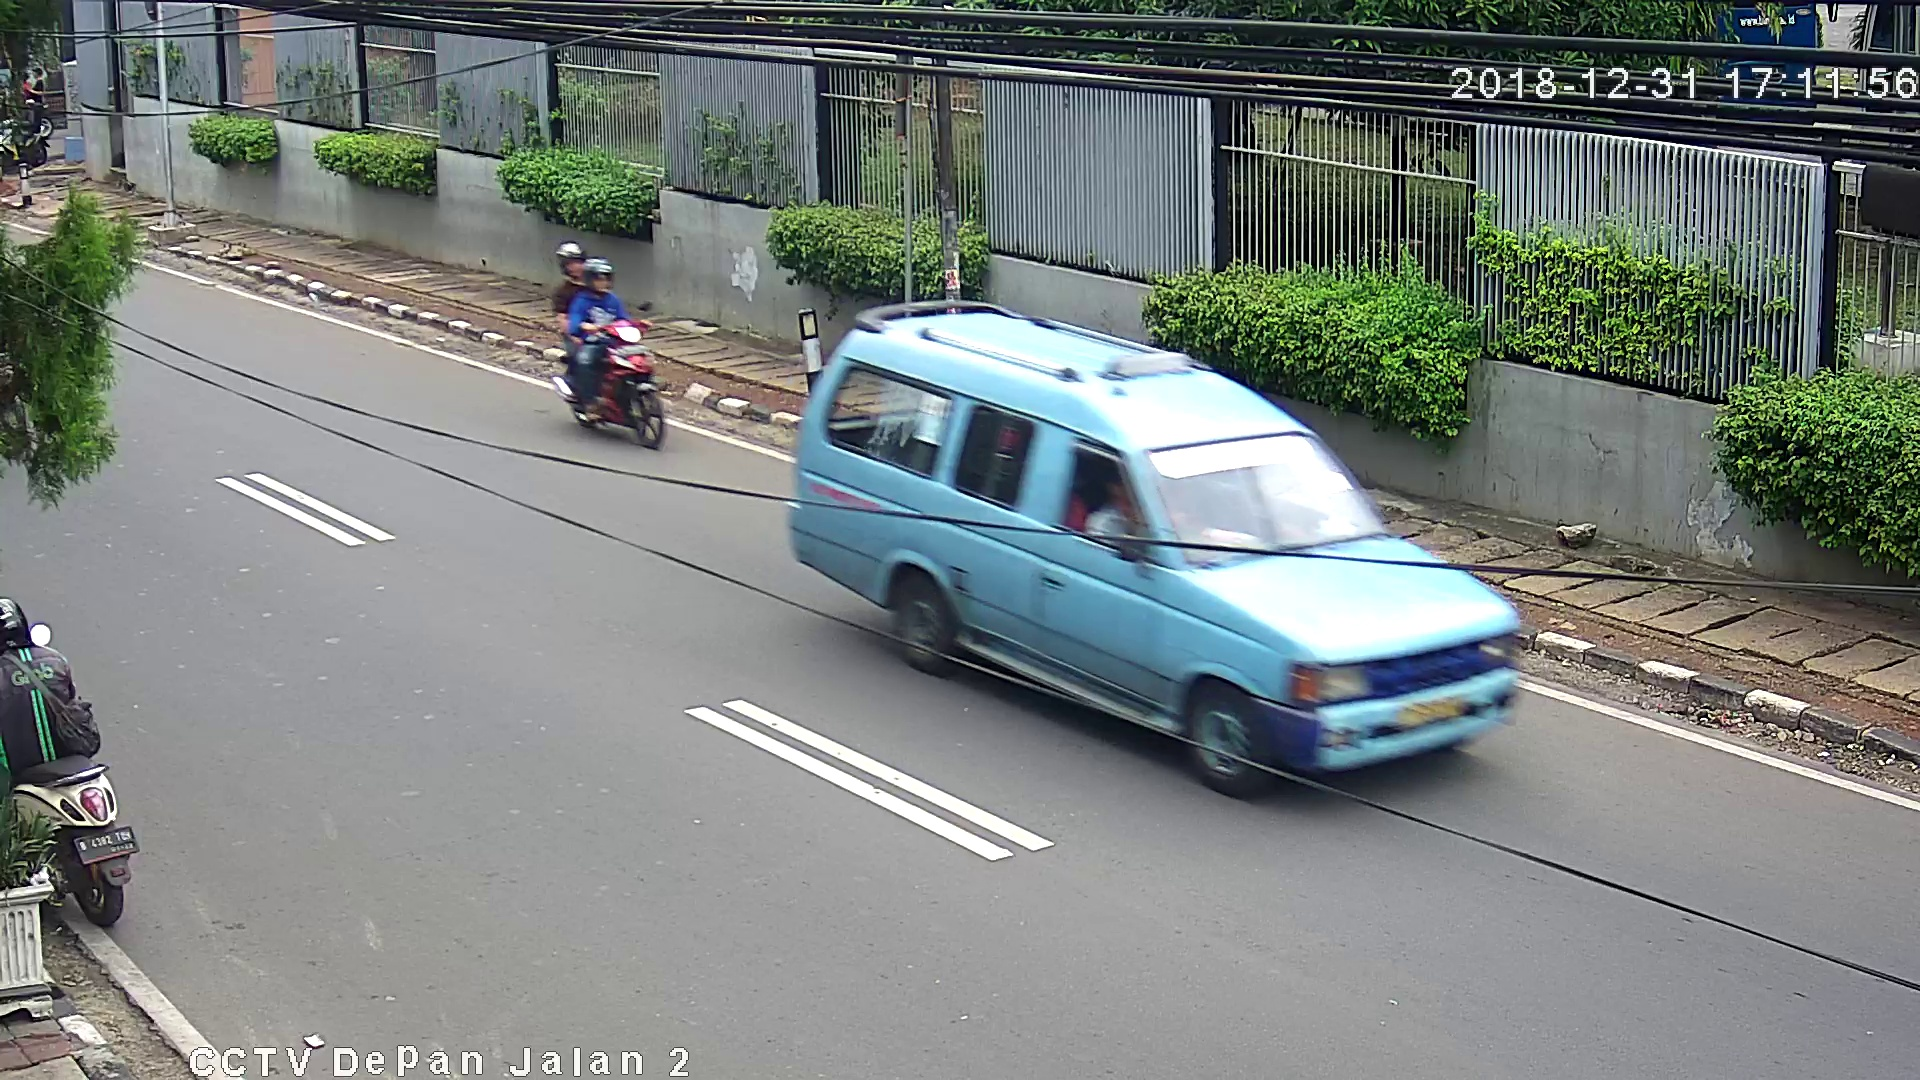car: (783, 295, 1522, 793)
motorcycle: (1, 597, 140, 932), (546, 233, 673, 456)
